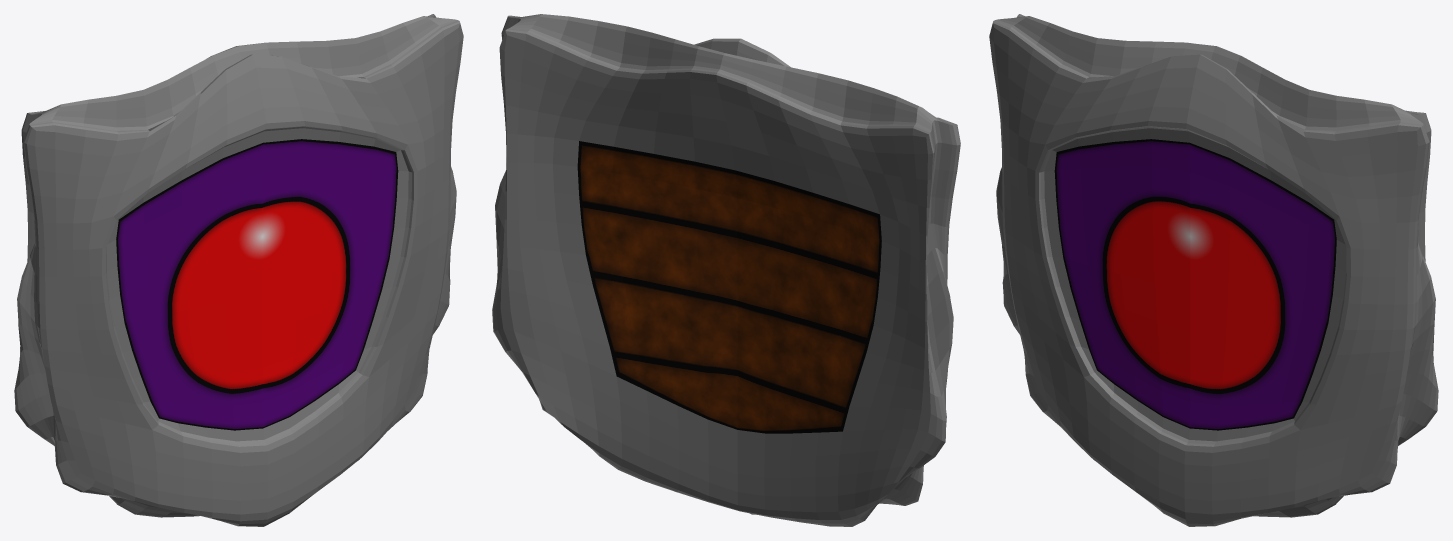
File: Shield.fbx
3 renders of one model, left to right at view 1: azimuth 30°, elevation 25°; view 2: azimuth 150°, elevation 25°; view 3: azimuth 330°, elevation 25°, orthographic. The views are drawn at different scales.
Visible parts, largest first — view 1: Cube; view 2: Cube; view 3: Cube.
Boxes of the visible parts, box(x1,y1,x2,y2) form: Cube: box(14, 14, 463, 526); Cube: box(492, 14, 960, 526); Cube: box(989, 14, 1438, 526).
Size of the model in its own units: 3.67 by 3.7 by 0.5756.
